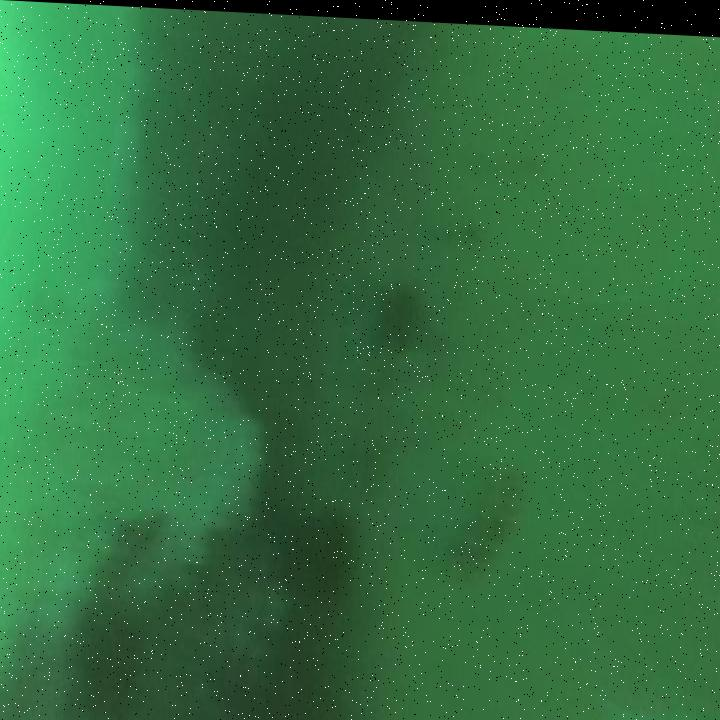holothurian: (445, 443, 528, 585)
